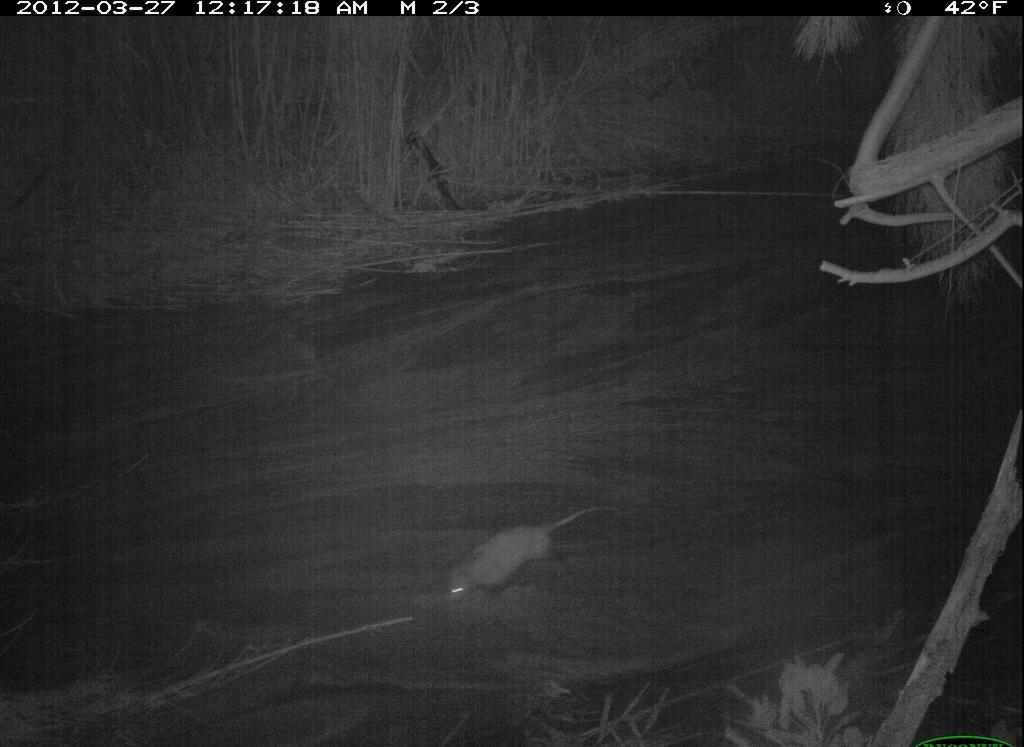opossum: (432, 497, 629, 615)
